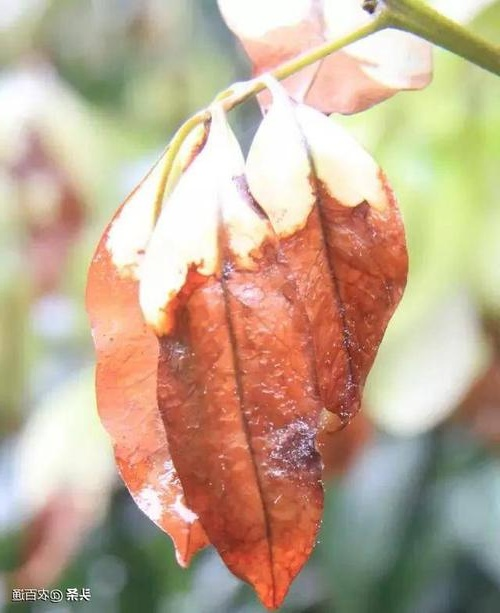Frost_Blight: (137, 172, 430, 556)
